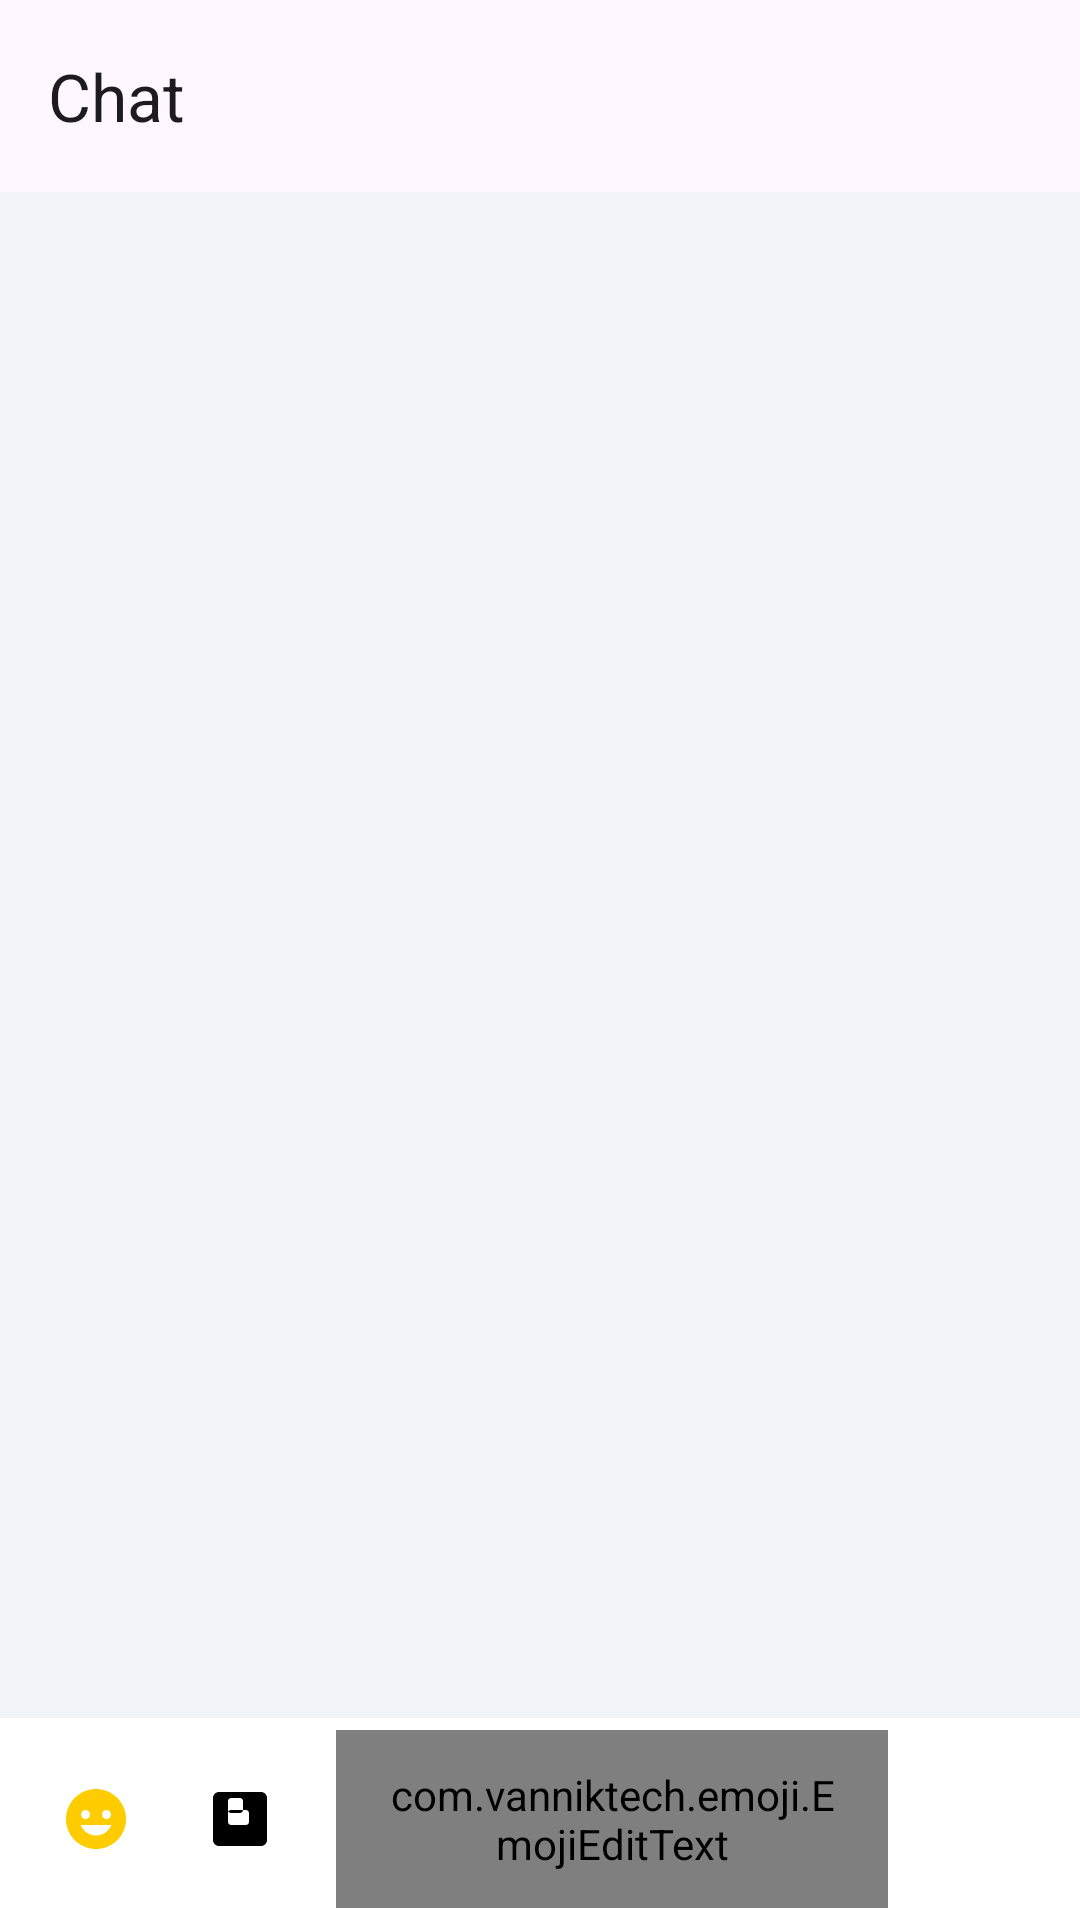

Icon click points for this 1080*1920 phone screenshot, format [x,y]:
Emoji: [96,1819]
